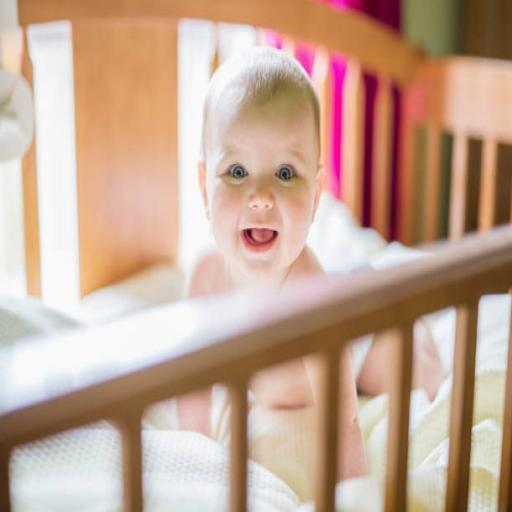baby: (188, 47, 323, 297)
crib: (0, 227, 511, 510)
